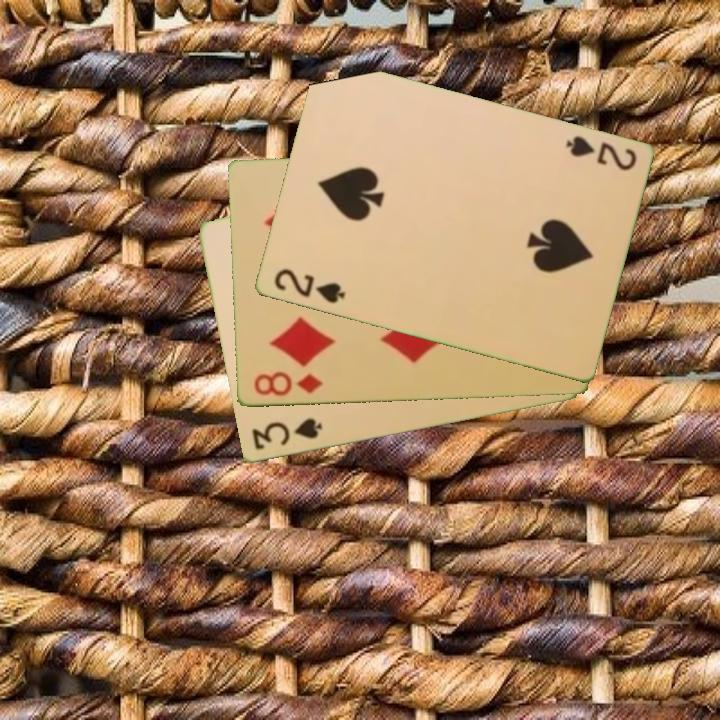2s: (270, 265, 348, 307), (562, 132, 639, 174)
3s: (248, 415, 325, 453)
8d: (250, 369, 325, 399)
